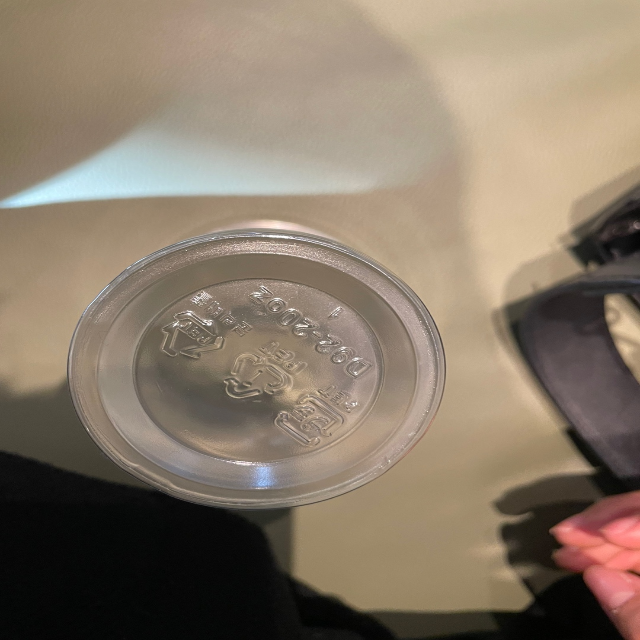pet: (163, 285, 251, 360), (219, 336, 309, 406), (276, 382, 362, 450)
